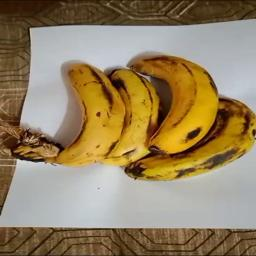Banana Semifresh: (29, 51, 256, 186)
